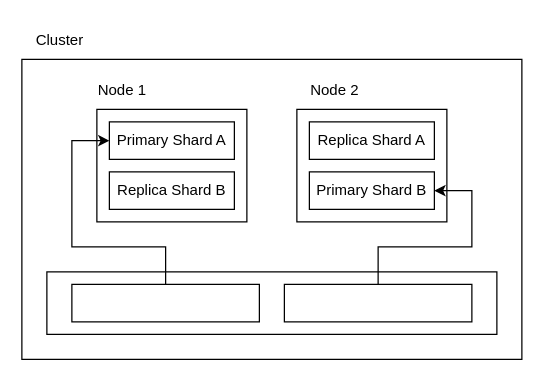
The diagram is 544 pixels wide and 381 high, and some of its shapes have lost their labels. Here are the shapes that lost their labels. From the top down, the box of each, then its label:
(71, 283, 259, 322): Shard A
(283, 283, 472, 322): Shard B
